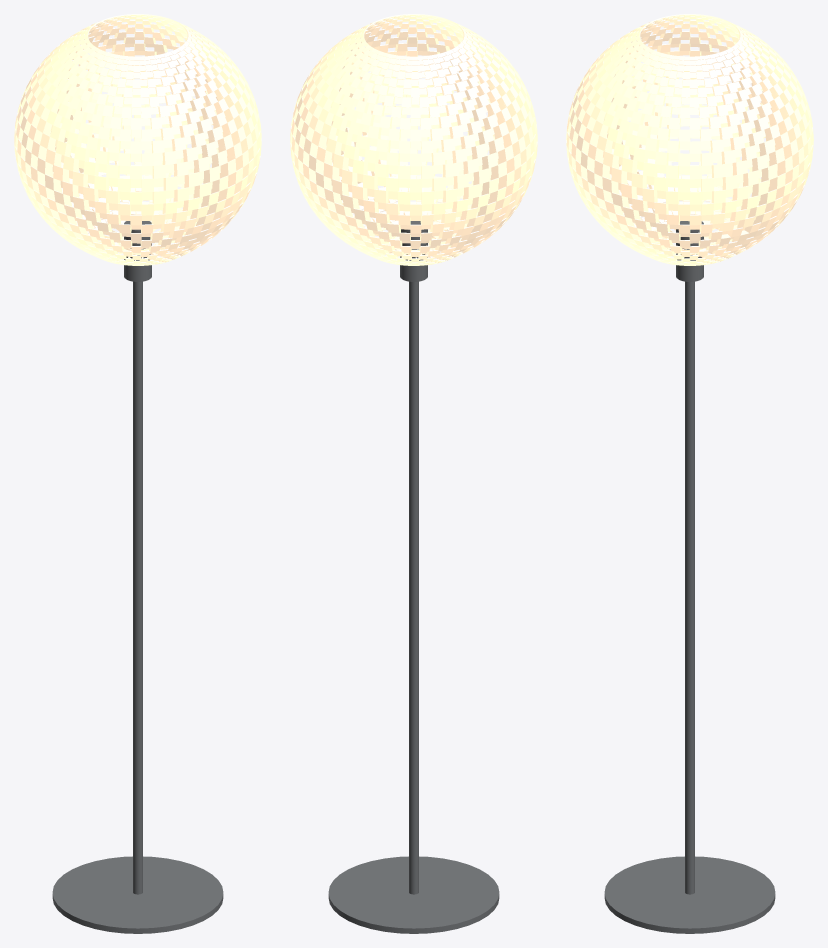
3 views of the same model, side by side, from view 1: azimuth 30°, elevation 25°; view 2: azimuth 150°, elevation 25°; view 3: azimuth 270°, elevation 25° (orthographic).
Parts seen in each view (by area): view 1: Kugelleuchte-30cm_6, Zylinder.1_4, Zylinder_5, Zylinder.2_2; view 2: Kugelleuchte-30cm_6, Zylinder.1_4, Zylinder_5, Zylinder.2_2; view 3: Kugelleuchte-30cm_6, Zylinder.1_4, Zylinder_5, Zylinder.2_2.
Boxes of the visible parts, left/top/right/bottom form: Kugelleuchte-30cm_6: left=14, top=14, right=261, bottom=265; Zylinder.1_4: left=52, top=856, right=223, bottom=933; Zylinder_5: left=133, top=281, right=142, bottom=894; Zylinder.2_2: left=124, top=221, right=151, bottom=281; Kugelleuchte-30cm_6: left=290, top=14, right=537, bottom=265; Zylinder.1_4: left=328, top=856, right=499, bottom=933; Zylinder_5: left=409, top=281, right=418, bottom=894; Zylinder.2_2: left=400, top=221, right=427, bottom=281; Kugelleuchte-30cm_6: left=566, top=14, right=813, bottom=265; Zylinder.1_4: left=604, top=856, right=775, bottom=933; Zylinder_5: left=685, top=281, right=694, bottom=894; Zylinder.2_2: left=676, top=221, right=703, bottom=281.
Size of the model in its own units: 0.5708 by 2.19 by 0.5708.
